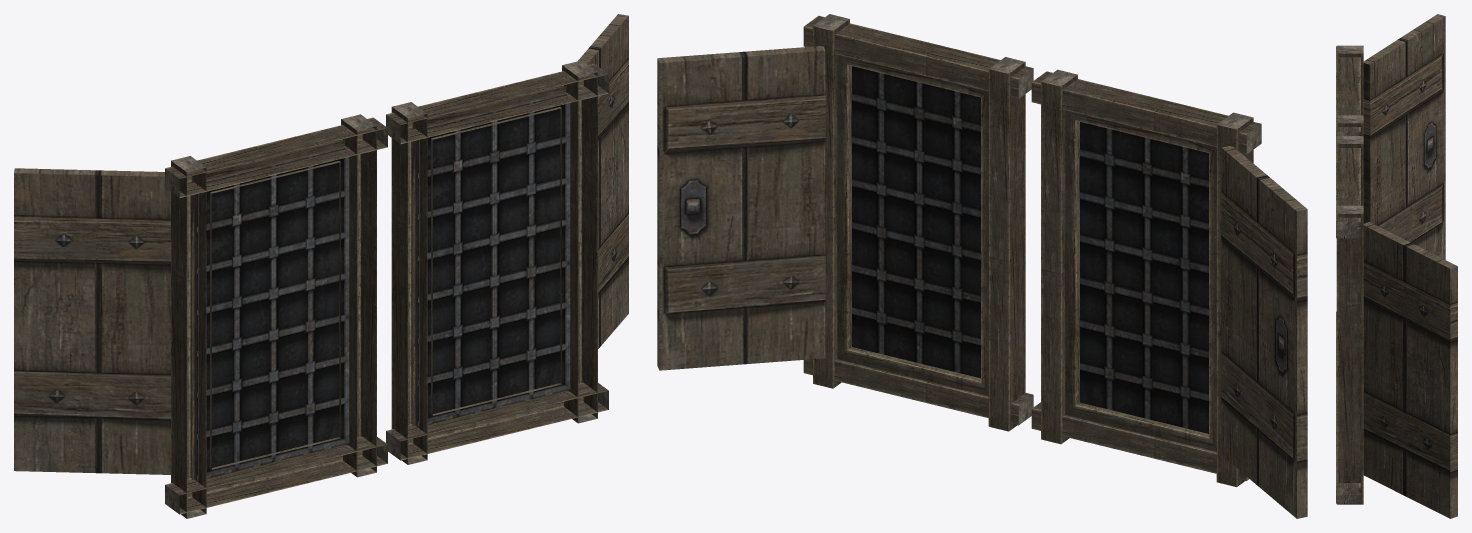
File: Window9.fbx
3 views of the same model, side by side, from view 1: azimuth 30°, elevation 25°; view 2: azimuth 150°, elevation 25°; view 3: azimuth 270°, elevation 25° (orthographic). The views are drawn at different scales.
Parts seen in each view (by area): view 1: polySurface4062; view 2: polySurface4062; view 3: polySurface4062.
Boxes of the visible parts, left/top/right/bottom form: polySurface4062: left=14, top=14, right=628, bottom=518; polySurface4062: left=657, top=14, right=1307, bottom=518; polySurface4062: left=1336, top=14, right=1457, bottom=518.
Bounding box in the file's own units: 5.84 × 3.11 × 1.18.
